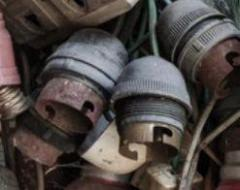lightbulb: (0, 1, 240, 190), (12, 27, 128, 167), (77, 55, 192, 175), (156, 0, 238, 98), (0, 9, 32, 122)
